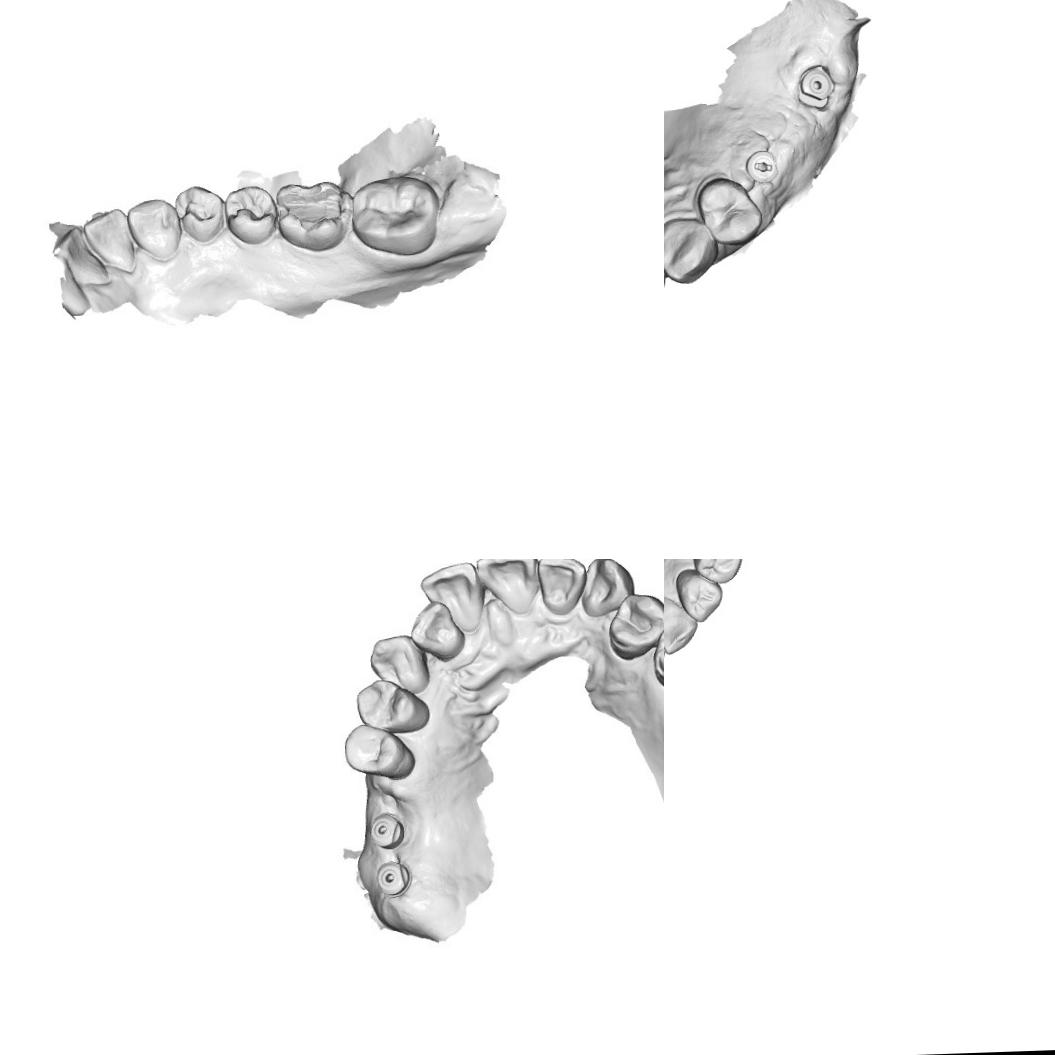canine: (365, 631, 436, 698), (124, 196, 183, 264), (664, 213, 717, 287), (572, 559, 631, 619), (664, 594, 699, 656)
implant: (796, 64, 840, 103), (368, 810, 402, 848), (374, 860, 410, 893)
implant_minus: (742, 148, 782, 185)
incisor: (424, 566, 486, 635), (81, 206, 138, 276), (479, 559, 542, 621), (536, 559, 585, 619), (412, 605, 460, 656)
inlay: (276, 185, 344, 233)
molar: (347, 172, 442, 258)
premolar: (697, 176, 766, 247), (609, 596, 664, 663), (222, 182, 278, 247), (174, 181, 226, 246), (356, 680, 423, 726), (674, 566, 724, 624), (346, 726, 402, 773), (644, 618, 664, 688), (691, 559, 744, 585)
